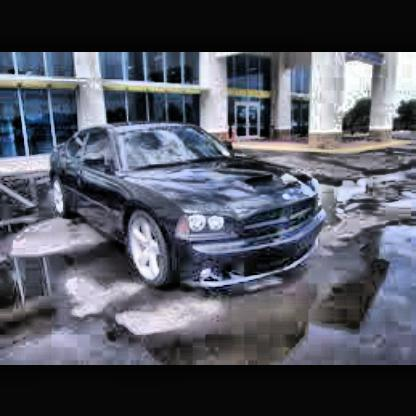Dodge Charger SRT-8 2009: (54, 130, 328, 293)
